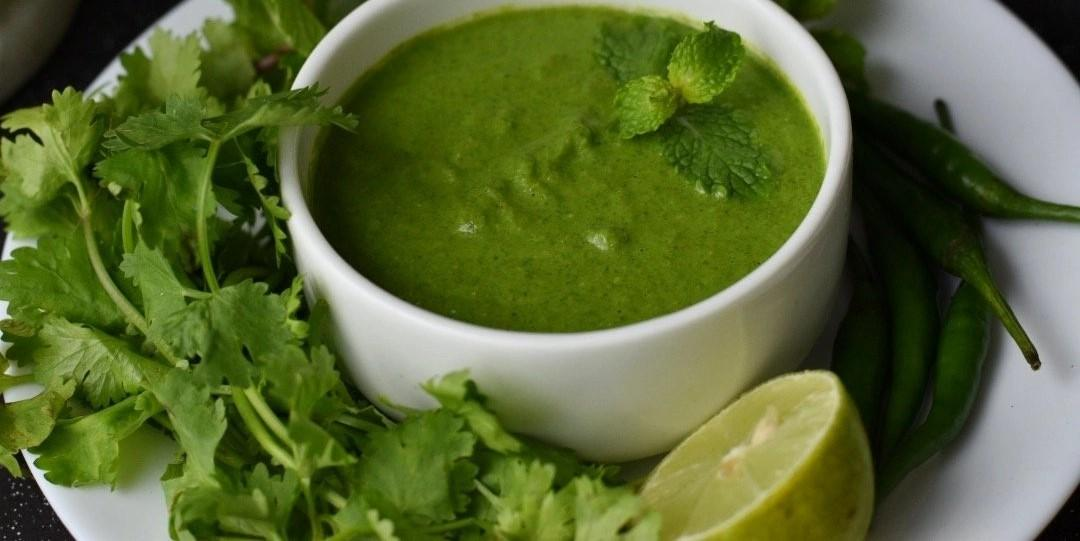GreenChutney: (312, 12, 822, 334)
